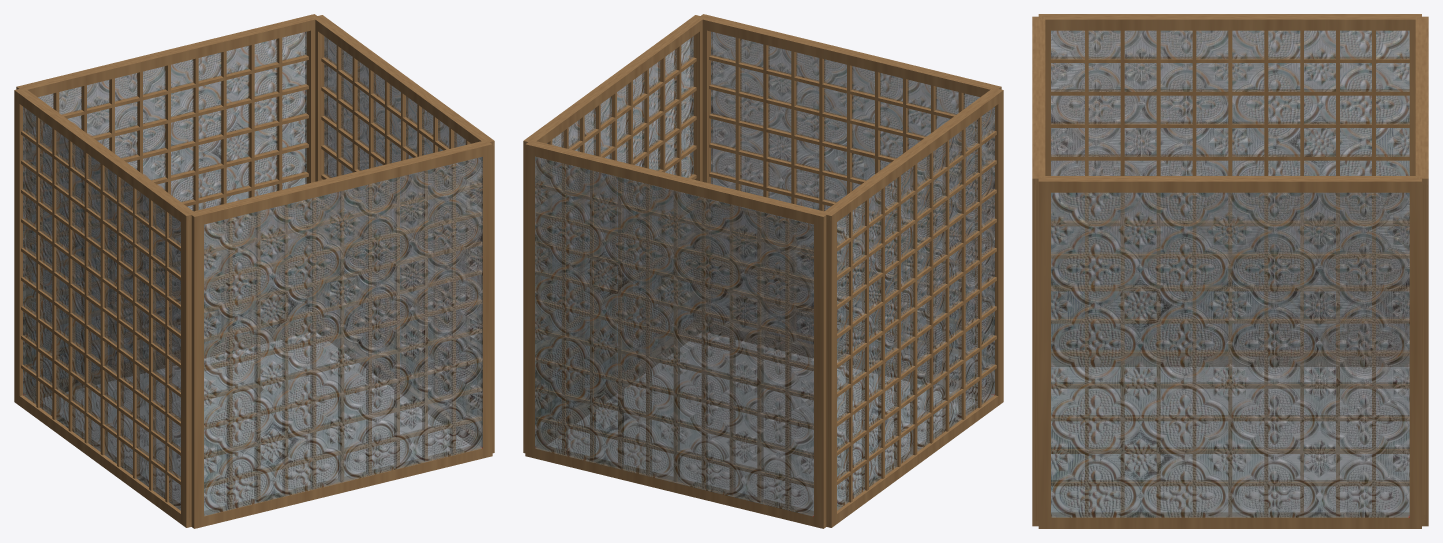
File: 06_木框壓花玻璃_10x10.glb
3 renders of one model, left to right at view 1: azimuth 30°, elevation 25°; view 2: azimuth 150°, elevation 25°; view 3: azimuth 270°, elevation 25°, orthographic. The views are drawn at different scales.
Parts seen in each view (by area): view 1: cube53.001, cube52.001, cube58.001, cube59.001, cube56.001, cube54.001, cube57.001, cube55.001; view 2: cube57.001, cube56.001, cube58.001, cube59.001, cube52.001, cube53.001, cube54.001, cube55.001; view 3: cube55.001, cube54.001, cube59.001, cube58.001, cube52.001, cube56.001.
Boxes of the visible parts, box(x1,y1,x2,y2) form: cube53.001: box(204, 156, 482, 516); cube52.001: box(189, 140, 492, 528); cube58.001: box(14, 88, 195, 527); cube59.001: box(23, 106, 180, 510); cube56.001: box(16, 14, 319, 396); cube54.001: box(313, 15, 494, 453); cube57.001: box(38, 31, 306, 210); cube55.001: box(324, 36, 470, 177); cube57.001: box(535, 156, 813, 516); cube56.001: box(525, 140, 828, 528); cube58.001: box(823, 88, 1003, 527); cube59.001: box(837, 106, 994, 510); cube52.001: box(698, 14, 1001, 396); cube53.001: box(711, 31, 979, 210); cube54.001: box(523, 15, 703, 453); cube55.001: box(547, 36, 693, 177); cube55.001: box(1051, 192, 1409, 517); cube54.001: box(1038, 176, 1421, 528); cube59.001: box(1051, 30, 1409, 175); cube58.001: box(1038, 14, 1421, 366); cube52.001: box(1032, 16, 1045, 526); cube56.001: box(1415, 16, 1428, 526).
Size of the model in its own units: 2.59 by 2.5 by 2.59.
Materials: 2 (2 with a texture image).
